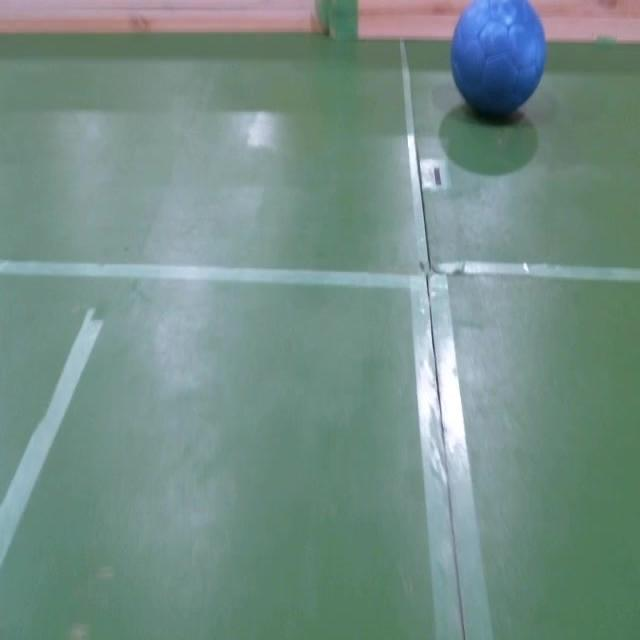blue_ball: (451, 0, 546, 118)
